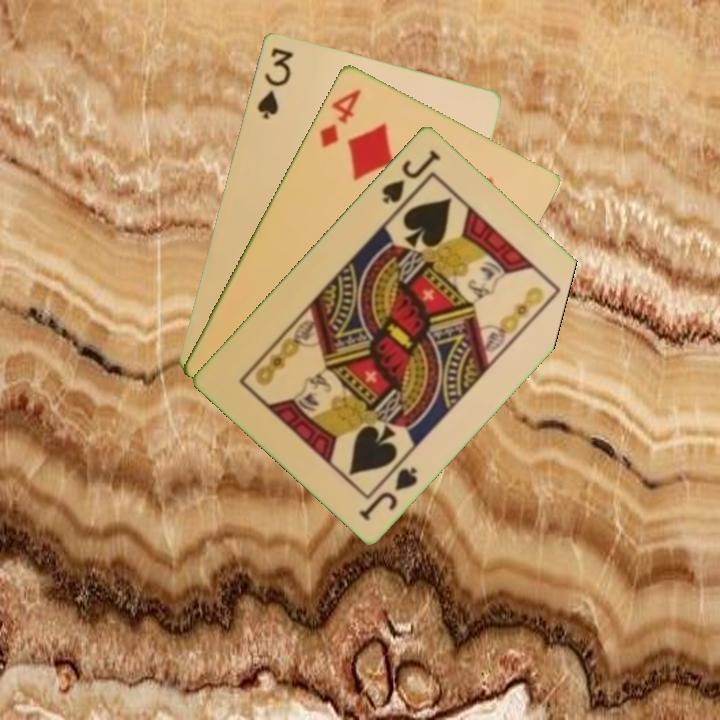3s: (253, 44, 296, 122)
4d: (316, 84, 364, 150)
Js: (378, 145, 444, 207), (355, 462, 421, 523)
